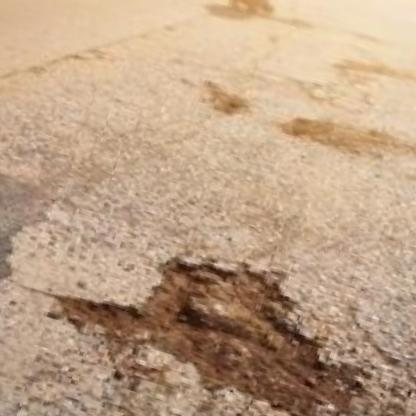pothole: (37, 209, 381, 416)
